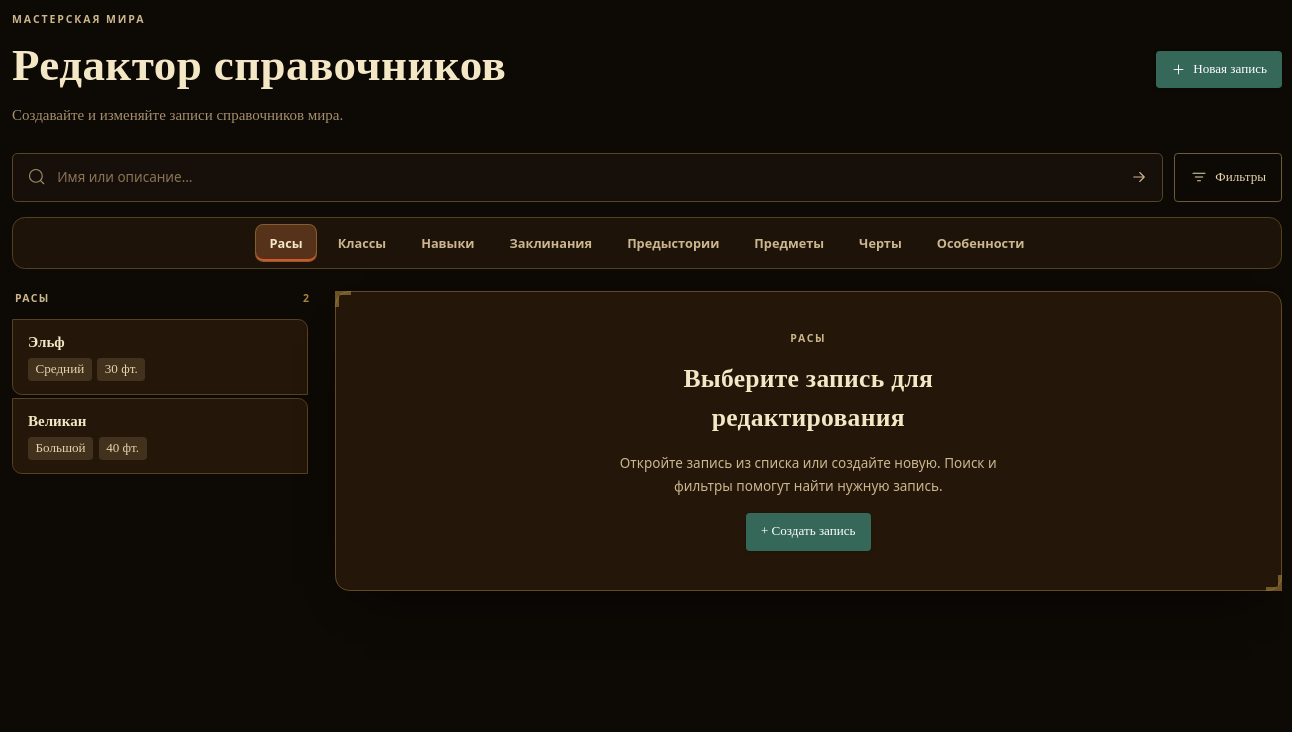
Test: GmEditorPage › shows an empty message when nothing matches the query
Expected: the button "Эльф Средний 30 фт." is shown, x1=12 y1=319 x2=308 y2=395
Type "zzz" into the search field named "Поиск по справочнику" at (581, 177), box x1=57 y1=154 x2=1105 y2=201
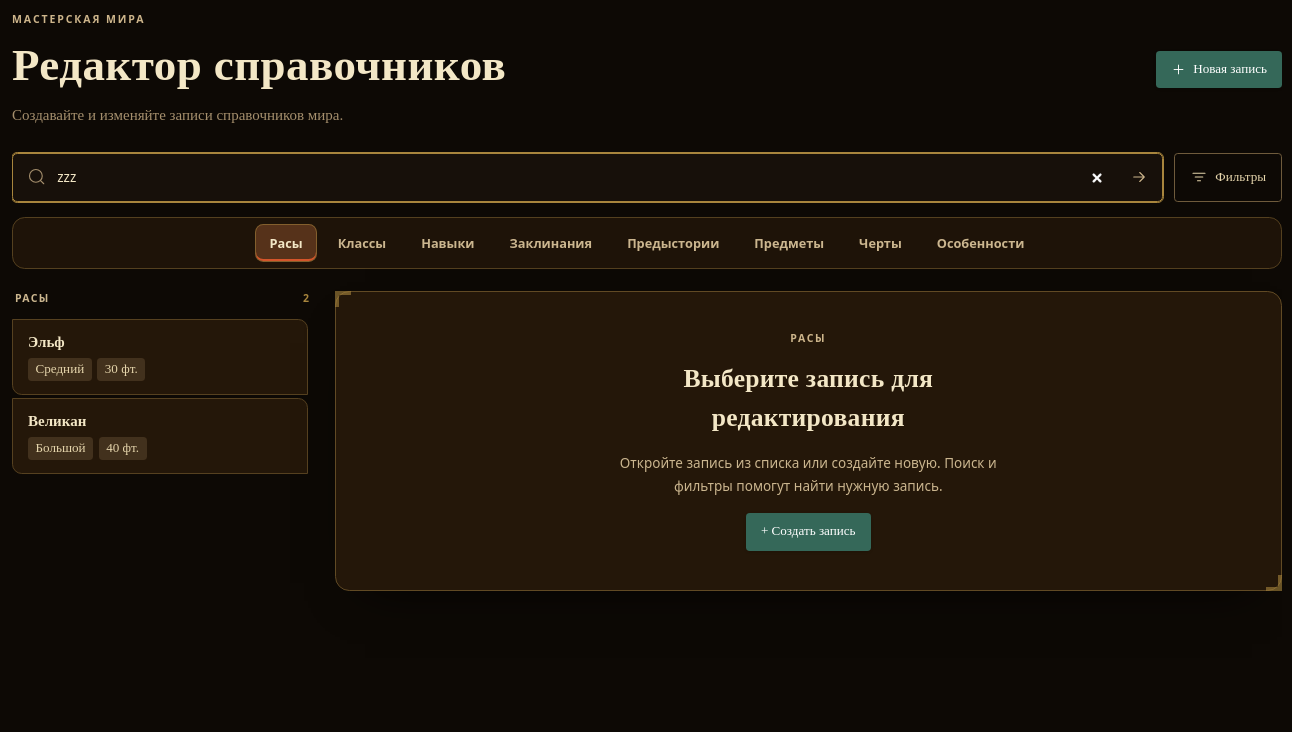
Click the button named "Поиск" at (1139, 177), box x1=1117 y1=155 x2=1162 y2=200
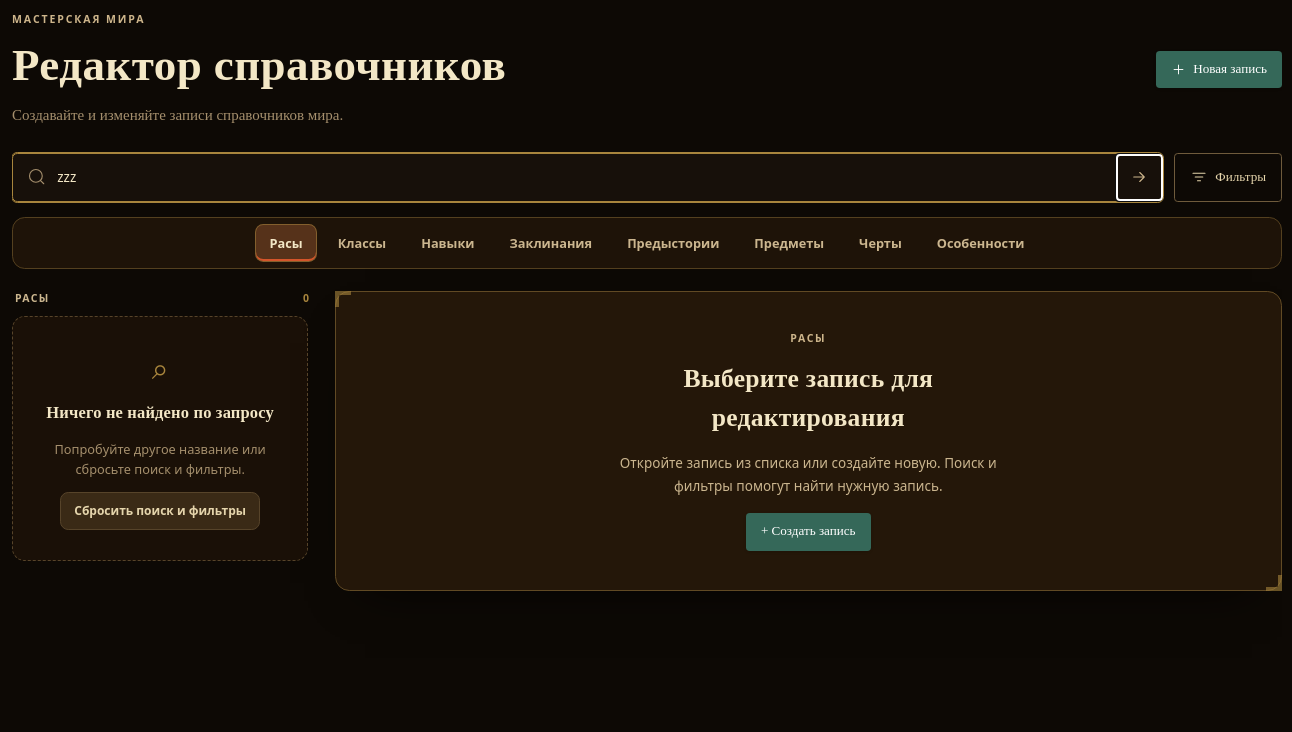
Expected: the heading "Ничего не найдено по запросу" is shown, x1=46 y1=401 x2=274 y2=426
Click the button "Сбросить поиск и фильтры" at (160, 511), box x1=60 y1=492 x2=260 y2=530
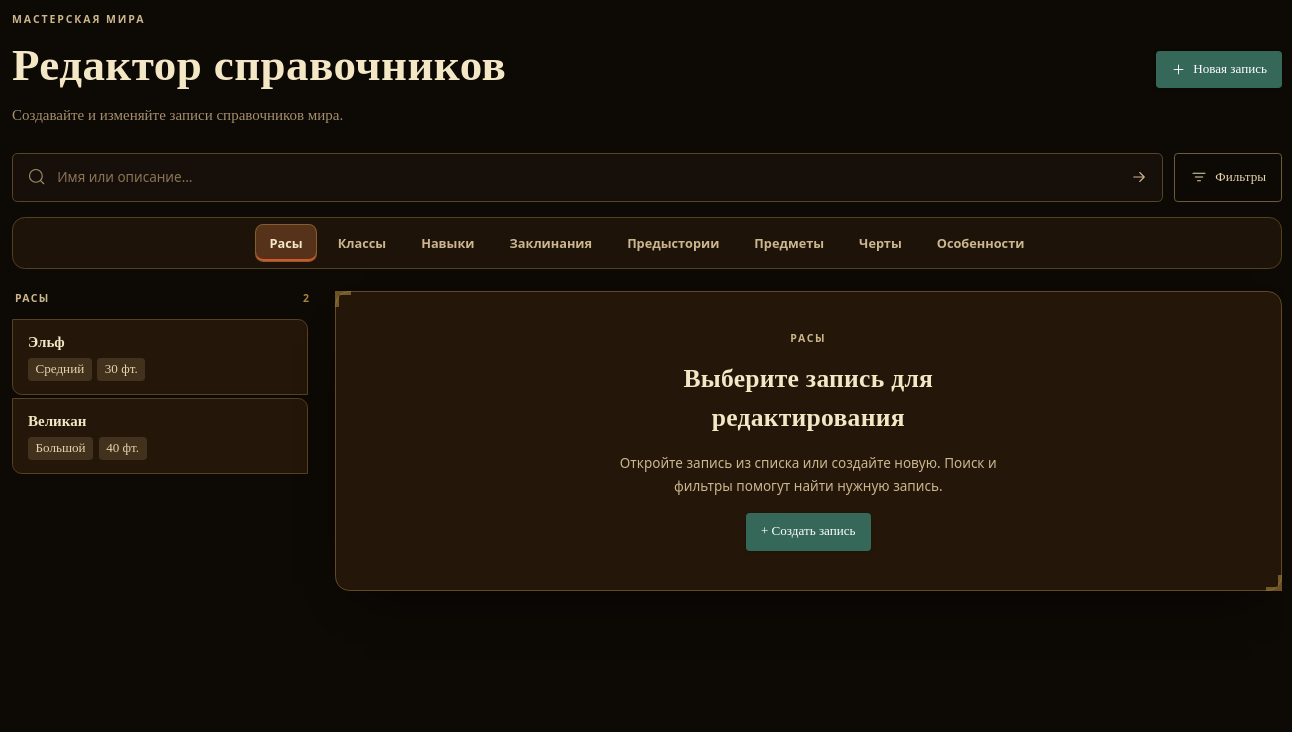
Expected: the button "Эльф Средний 30 фт." is shown, x1=12 y1=319 x2=308 y2=395
Expected: the search field named "Поиск по справочнику" is empty, x1=57 y1=154 x2=1105 y2=201
